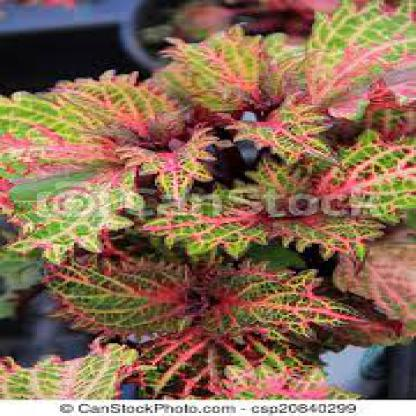Bunga Coleus: (8, 37, 392, 370)
